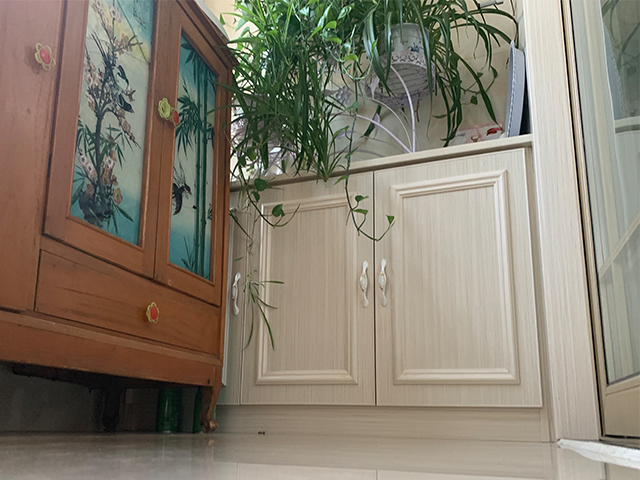cabinet: (204, 132, 553, 442), (1, 1, 241, 435)
